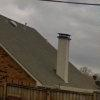Chimney: (53, 25, 72, 75)
